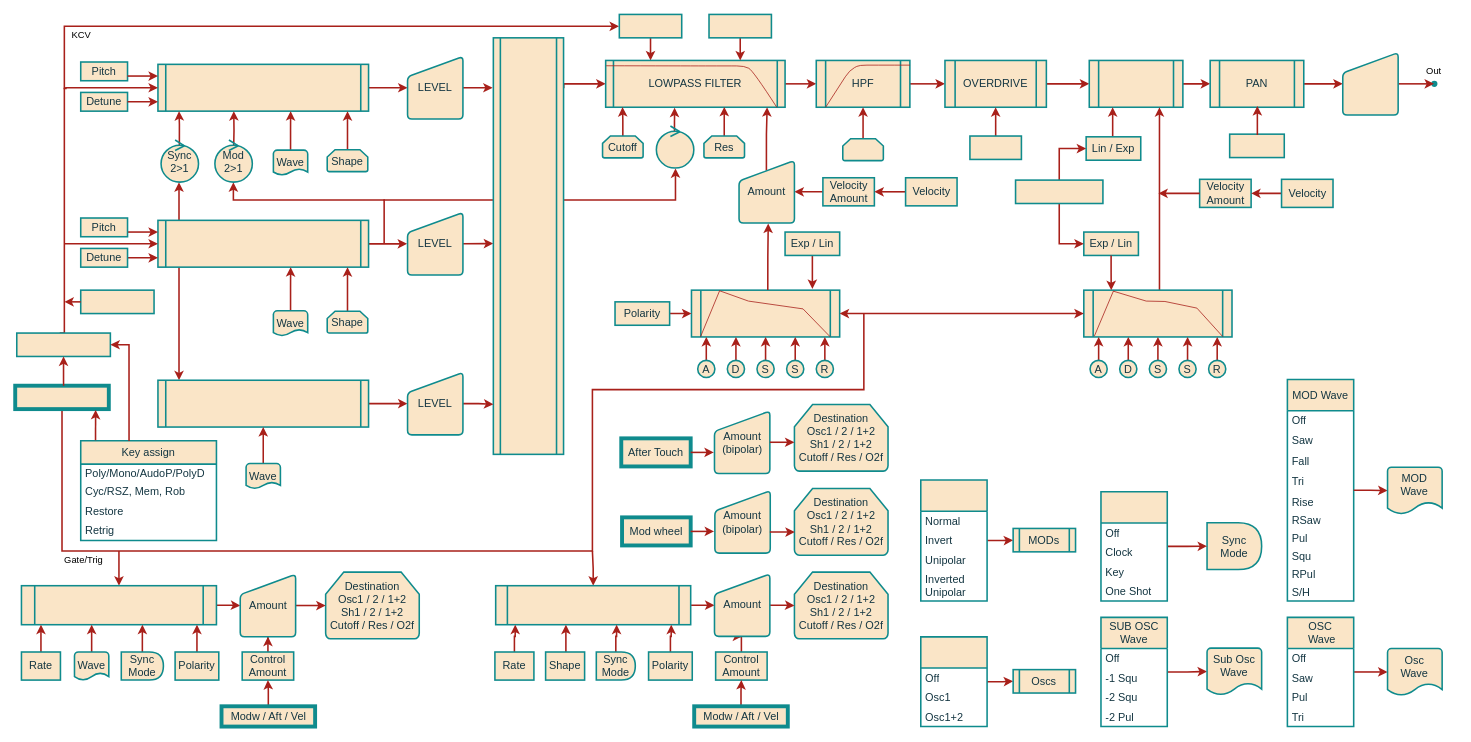
Some shapes in this 1471 by 742 pixel diagram are drawn without their labels. The shapes that lost their labels are listed below. From the top down, each one's box as (x1, y1, x2, y2) in pixels, then its label:
(618, 13, 682, 38): Key Track
(708, 13, 772, 38): Pole Count
(157, 63, 369, 112): OSC 1
(1088, 59, 1183, 108): VCA
(1342, 51, 1399, 115): Volume
(655, 125, 694, 168): Mod 2>F
(842, 138, 884, 161): Freq
(969, 135, 1022, 160): Drive
(1228, 133, 1285, 158): Dual Pan
(1014, 179, 1103, 204): Env/VCA Mode
(157, 219, 369, 268): OSC 2
(492, 37, 564, 455): MIXER
(80, 289, 154, 314): Dual Detune
(690, 289, 840, 337): Filter Env
(1083, 289, 1232, 337): Loudnes Env
(16, 332, 111, 357): Portamento
(13, 383, 110, 411): Keyboard / Note
(157, 379, 369, 427): SUB OSC
(920, 479, 987, 601): MOD Polarity
(1100, 491, 1168, 601): MOD Sync Mode
(20, 585, 217, 625): MOD 1/2
(495, 585, 691, 625): MOD 3
(920, 636, 987, 727): PitchBend
